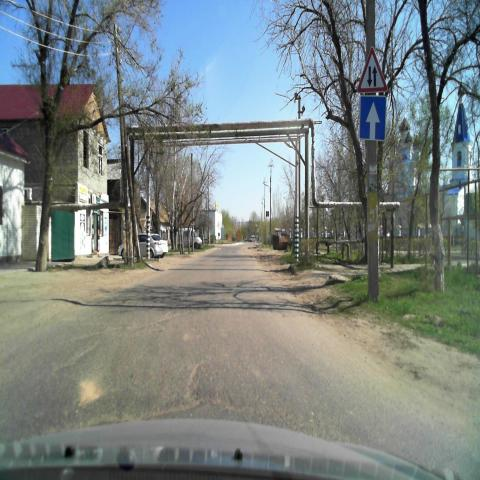1_21: (356, 45, 387, 93)
